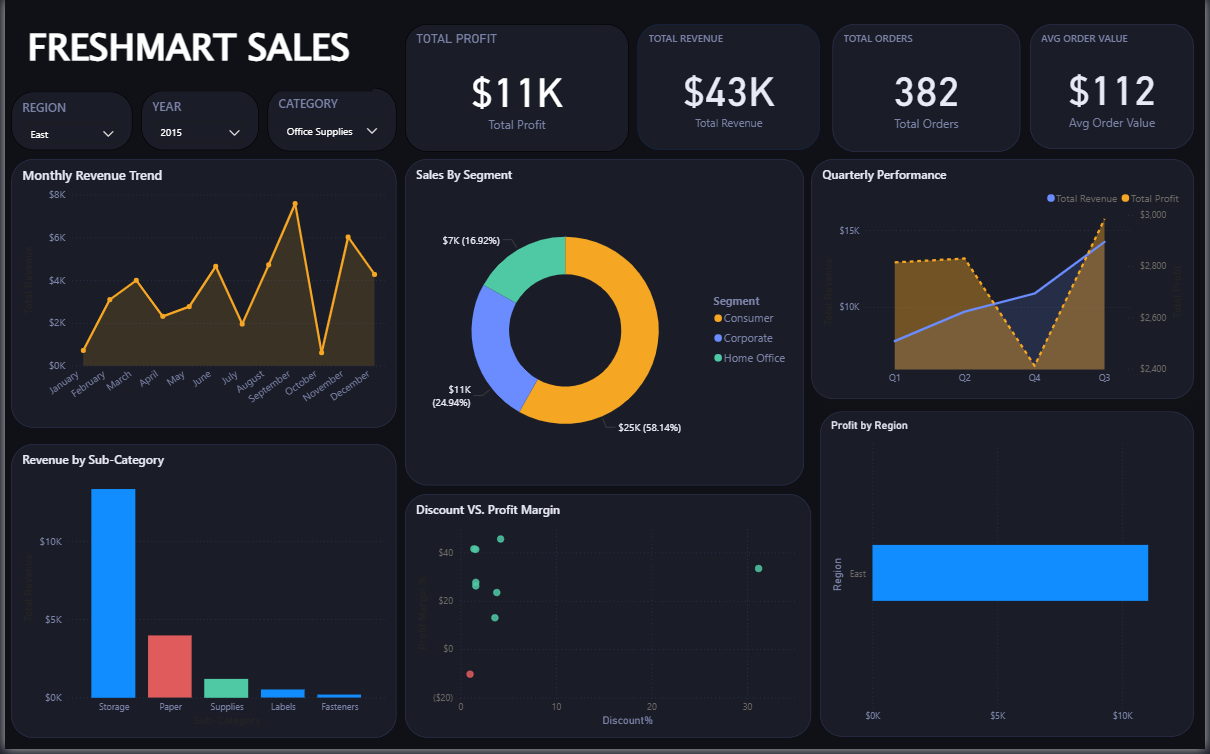

What the dashboard file says about the page in this screenshot:
{"tool":"powerbi","page":{"name":"Page 1","canvas":[1600,1000],"ordinal":0},"visuals":[{"type":"card","title":"TOTAL REVENUE","fields":{"Values":["Measures (2).Total Revenue"]},"box":[843.3,33.3,243.3,168.3],"z":0},{"type":"card","title":"TOTAL ORDERS","fields":{"Values":["Measures (2).Total Orders"]},"box":[1103.3,33.3,250,170],"z":1000},{"type":"card","title":"AVG ORDER VALUE","fields":{"Values":["Measures (2).Avg Order Value"]},"box":[1366.7,33.3,218.3,166.7],"z":2000},{"type":"lineChart","title":"Monthly Revenue Trend","fields":{"Category":["Calendar.Month Name"],"Y":["Measures (2).Total Revenue"]},"box":[8.3,213.3,513.3,358.3],"z":3000},{"type":"donutChart","title":"Sales By Segment","fields":{"Category":["Orders.Segment"],"Y":["Measures (2).Total Revenue"]},"box":[533.3,213.3,531.7,435],"z":4000},{"type":"clusteredBarChart","title":" Profit by Region","fields":{"Category":["Orders.Region"],"Y":["Measures (2).Total Profit"]},"box":[1086.7,550,498.3,433.3],"z":5000},{"type":"clusteredColumnChart","title":"Revenue by Sub-Category","fields":{"Y":["Measures (2).Total Revenue"],"Category":["Orders.Sub-Category"]},"box":[8.3,593.3,513.3,391.7],"z":6000},{"type":"scatterChart","title":"Discount VS. Profit Margin","fields":{"X":["Sum(Orders.Discount)"],"Y":["Measures (2).Profit Margin %"],"Category":["Orders.Sub-Category"]},"box":[533.3,660,541.7,325],"z":7000},{"type":"areaChart","title":"Quarterly Performance","fields":{"Category":["Calendar.Ouarter"],"Y":["Measures (2).Total Revenue"],"Y2":["Measures (2).Total Profit"]},"box":[1075,213.3,510,320],"z":8000},{"type":"tableEx","title":"TOP PRODUCTS BY REVENUE","fields":{"Values":["Orders.Product Name","Orders.Category","Orders.Region","Measures (2).Total Revenue","Sum(Orders.Quantity)","Measures (2).Profit Margin %"]},"box":[7,1089,825,383],"z":9000},{"type":"slicer","title":"YEAR","fields":{"Values":["Calendar.Year"]},"box":[181.7,121.7,156.7,80],"z":10000},{"type":"slicer","title":"CATEGORY","fields":{"Values":["Orders.Category"]},"box":[350,118.3,171.7,85],"z":11000},{"type":"slicer","title":"REGION","fields":{"Values":["Orders.Region"]},"box":[8.3,123.3,161.7,78.3],"z":12000},{"type":"textbox","box":[0,23.3,490,100],"z":13000},{"type":"card","title":"TOTAL PROFIT","fields":{"Values":["Measures (2).Total Profit"]},"box":[533.3,33.3,298.3,170],"z":14000}]}

Visuals, with their boxes in screenshot pixels (x1, y1, x2, y2), scaled from the page's 1600x1000 canvas onto the 1210x754 screenshot:
"TOTAL REVENUE" card: <box>638,25,822,152</box>
"TOTAL ORDERS" card: <box>834,25,1023,153</box>
"AVG ORDER VALUE" card: <box>1034,25,1199,151</box>
"Monthly Revenue Trend" lineChart: <box>6,161,394,431</box>
"Sales By Segment" donutChart: <box>403,161,805,489</box>
" Profit by Region" clusteredBarChart: <box>822,415,1199,741</box>
"Revenue by Sub-Category" clusteredColumnChart: <box>6,447,394,743</box>
"Discount VS. Profit Margin" scatterChart: <box>403,498,813,743</box>
"Quarterly Performance" areaChart: <box>813,161,1199,402</box>
"YEAR" slicer: <box>137,92,256,152</box>
"CATEGORY" slicer: <box>265,89,395,153</box>
"REGION" slicer: <box>6,93,129,152</box>
textbox: <box>0,18,371,93</box>
"TOTAL PROFIT" card: <box>403,25,629,153</box>
